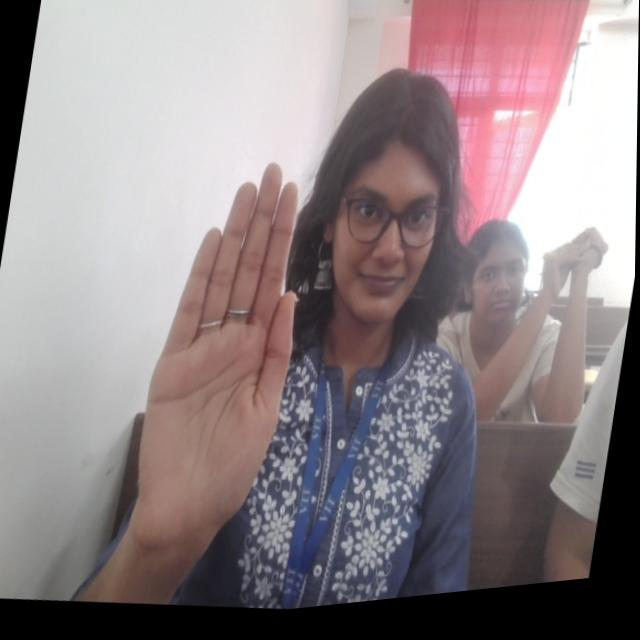hello: (127, 149, 324, 552)
